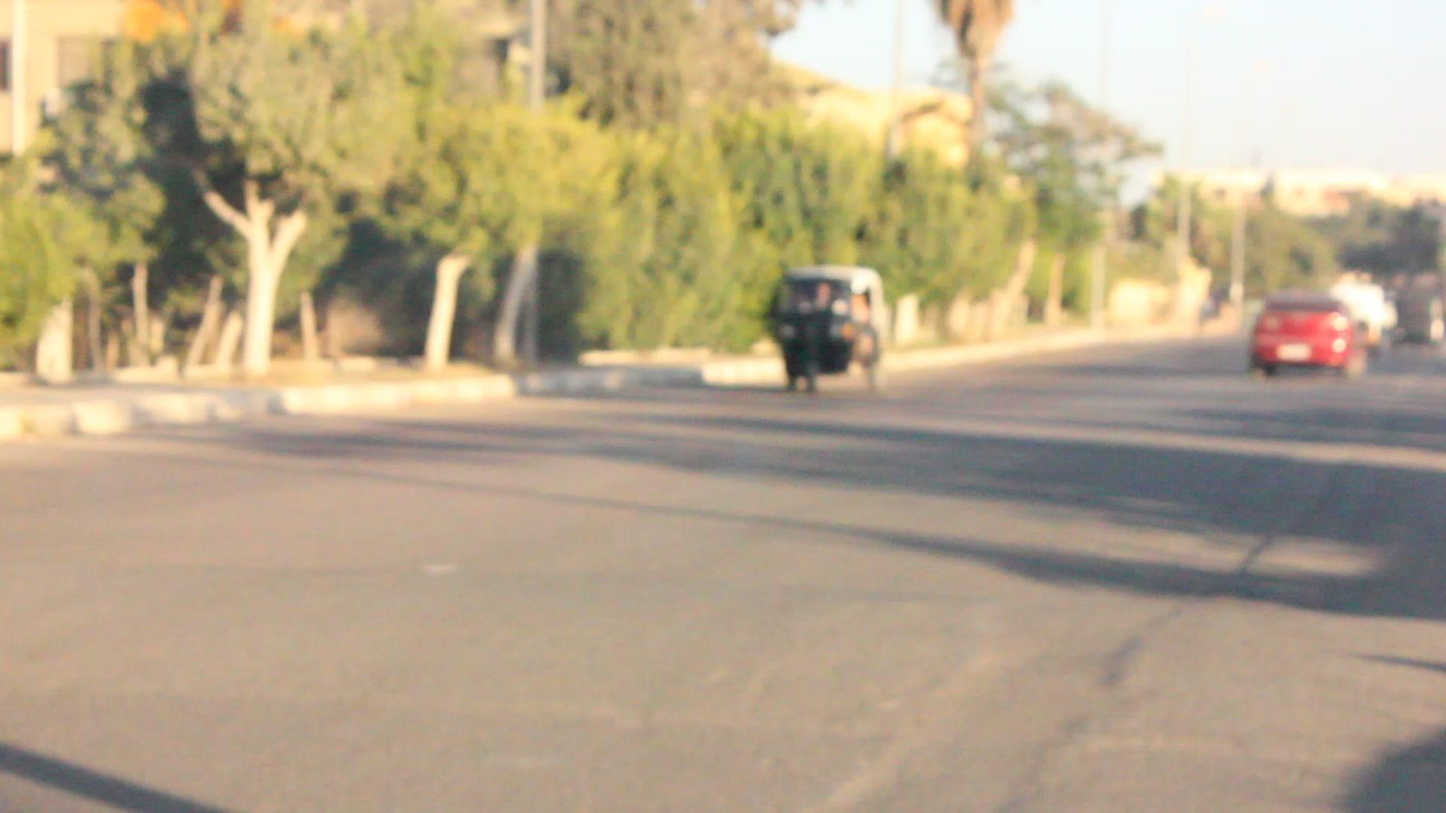Pothole: (785, 595, 1154, 812)
